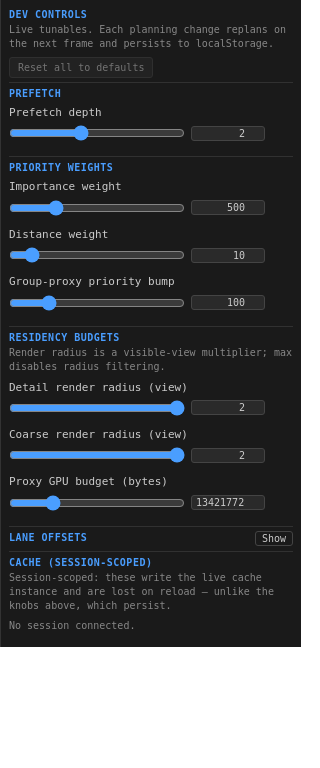
Test: DevControls — planning config rendering › renders lane-offsets and the structural-warning banner once expanded
Click the button "Show": point(274, 538) [255,531,293,546]
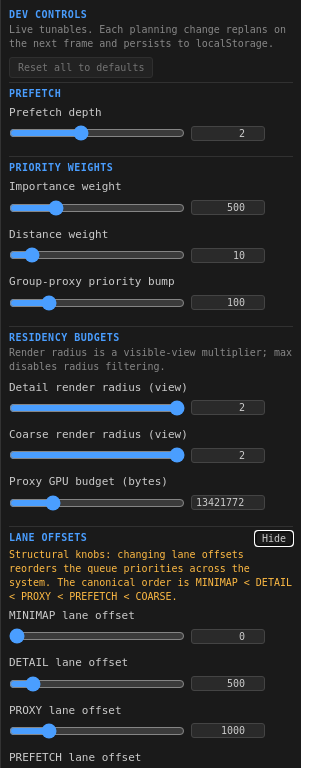
Expected: the slider labelled "MINIMAP lane offset" is shown, [9,628,185,644]
Expected: the text "canonical order" is shown, [9,549,292,602]
